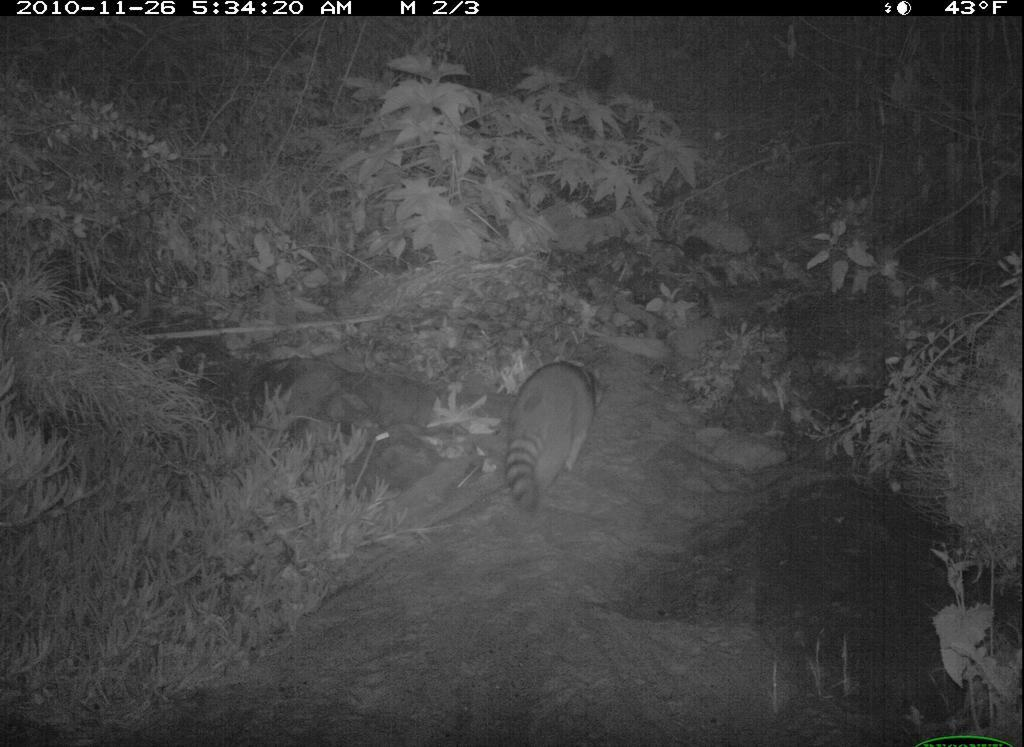raccoon: (495, 338, 607, 519)
